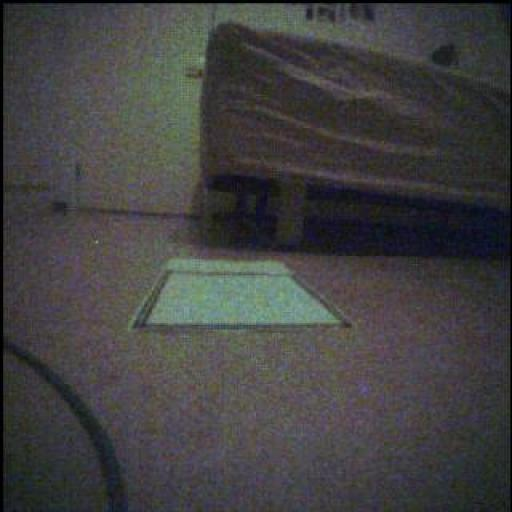pad: (131, 260, 348, 332)
